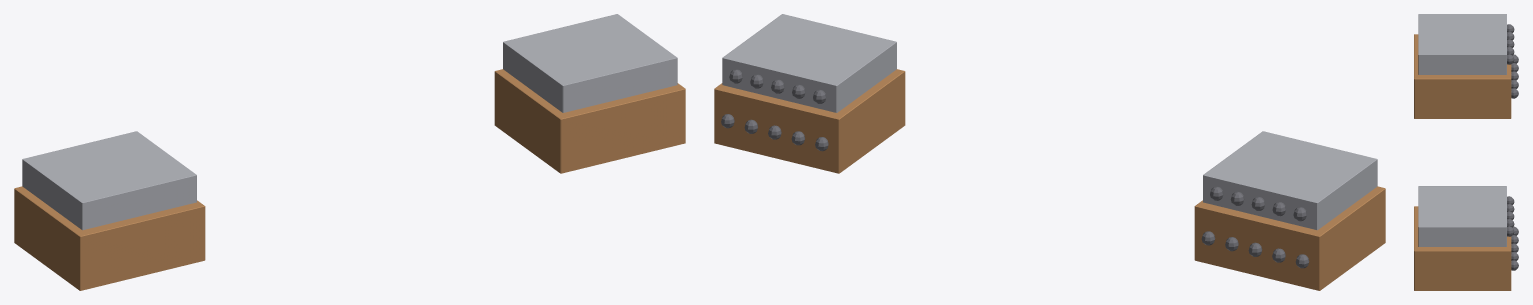
File: rivet-guard.glb
3 renders of one model, left to right at view 1: azimuth 30°, elevation 25°; view 2: azimuth 150°, elevation 25°; view 3: azimuth 270°, elevation 25°, orthographic. The views are drawn at different scales.
Visible parts, largest first — view 1: skirt_l, skirt_r, plate_r, plate_l; view 2: skirt_r, skirt_l, plate_l, plate_r; view 3: plate_l, plate_r, skirt_l, skirt_r.
Part boxes in pixels (x1=…): skirt_l: x1=494, y1=69, x2=685, y2=173; skirt_r: x1=14, y1=186, x2=205, y2=290; plate_r: x1=22, y1=131, x2=196, y2=230; plate_l: x1=503, y1=14, x2=677, y2=112; skirt_r: x1=1194, y1=186, x2=1385, y2=290; skirt_l: x1=714, y1=69, x2=905, y2=173; plate_l: x1=722, y1=14, x2=896, y2=112; plate_r: x1=1203, y1=131, x2=1377, y2=230; plate_l: x1=1418, y1=186, x2=1506, y2=246; plate_r: x1=1418, y1=14, x2=1506, y2=74; skirt_l: x1=1414, y1=206, x2=1511, y2=290; skirt_r: x1=1414, y1=34, x2=1511, y2=118.
Bounding box in the file's own units: 1.16 × 0.185 × 0.237.
